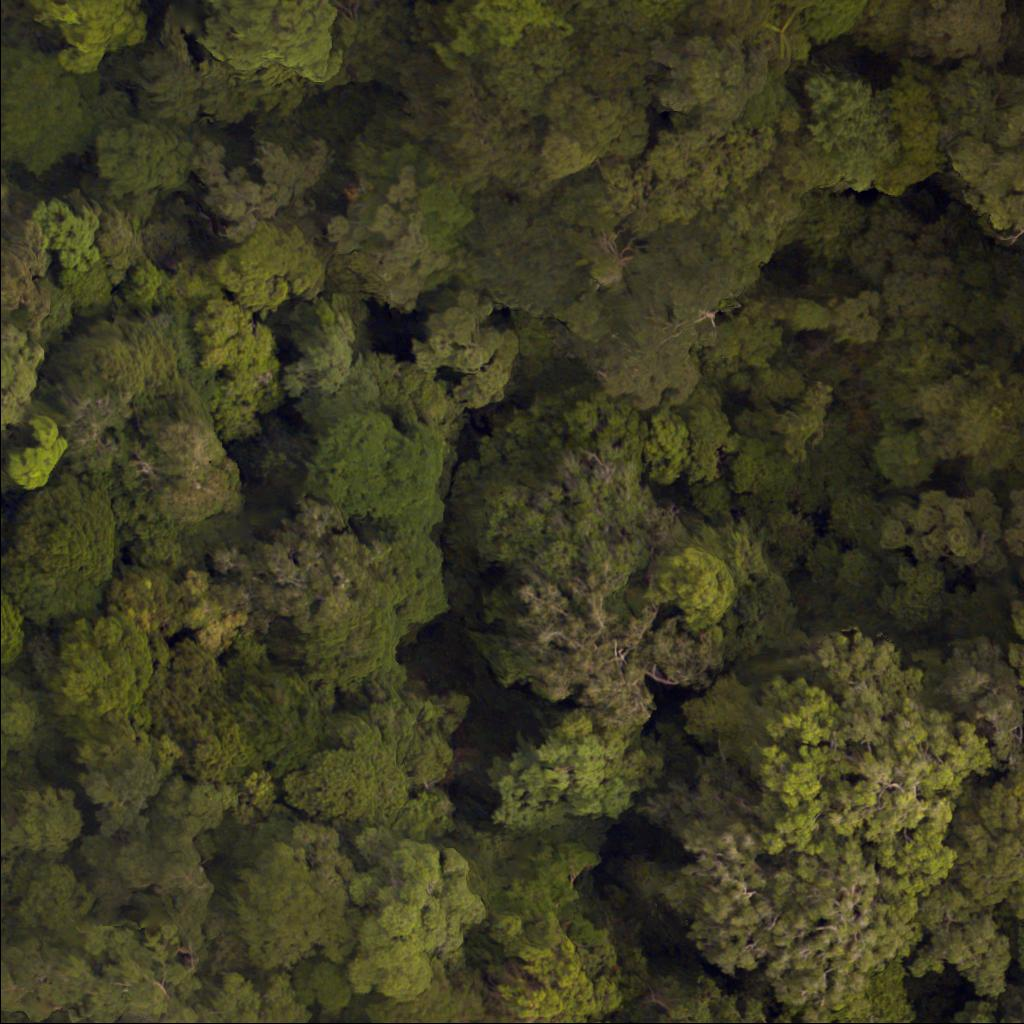crown: (649, 757, 919, 1000), (0, 834, 294, 1023), (804, 632, 983, 844), (685, 678, 834, 857), (589, 253, 754, 408), (343, 832, 483, 1000), (301, 536, 454, 688), (534, 450, 687, 594), (400, 57, 550, 198), (493, 714, 666, 832), (298, 415, 449, 540), (450, 413, 573, 563), (323, 170, 446, 315), (238, 501, 375, 629), (0, 478, 111, 620), (233, 856, 364, 975), (193, 137, 328, 246), (642, 123, 774, 229), (943, 76, 1023, 245), (410, 288, 523, 407), (318, 351, 467, 439), (195, 0, 345, 87), (283, 728, 413, 826), (650, 30, 776, 131), (495, 933, 631, 1023), (467, 205, 584, 309), (798, 64, 896, 186), (0, 46, 93, 174), (923, 363, 1023, 478), (49, 620, 164, 715), (502, 384, 651, 456), (564, 0, 661, 109), (705, 168, 805, 269), (141, 417, 236, 523), (919, 888, 1014, 991), (51, 365, 136, 478), (365, 956, 504, 1023), (279, 296, 371, 395), (950, 785, 1023, 908), (877, 60, 941, 199), (26, 0, 147, 73), (133, 5, 204, 128), (192, 301, 279, 401), (235, 673, 325, 766), (223, 225, 321, 309), (778, 961, 909, 1023), (877, 215, 951, 323), (644, 547, 740, 628), (96, 120, 195, 197), (550, 85, 648, 161), (486, 26, 575, 107), (447, 0, 563, 59), (632, 976, 775, 1023), (146, 650, 222, 738), (178, 696, 259, 776), (201, 62, 306, 122), (910, 0, 1013, 61), (0, 224, 57, 330), (26, 198, 107, 272), (938, 247, 1004, 337), (871, 822, 951, 893), (182, 571, 248, 652), (855, 203, 923, 280), (13, 779, 84, 850), (107, 560, 187, 623), (6, 413, 70, 491), (793, 197, 865, 264), (724, 435, 798, 500), (683, 387, 731, 483), (877, 565, 948, 624), (872, 435, 935, 495), (850, 0, 915, 55), (283, 963, 353, 1014), (643, 409, 690, 478), (681, 0, 773, 35), (0, 327, 41, 399), (805, 0, 868, 45), (0, 591, 34, 674), (57, 258, 113, 307), (1010, 595, 1023, 676), (1008, 275, 1023, 340), (950, 1003, 996, 1023), (634, 0, 690, 16), (998, 991, 1023, 1023), (773, 0, 813, 14), (0, 181, 4, 206), (1021, 574, 1023, 586), (0, 533, 1, 544)
